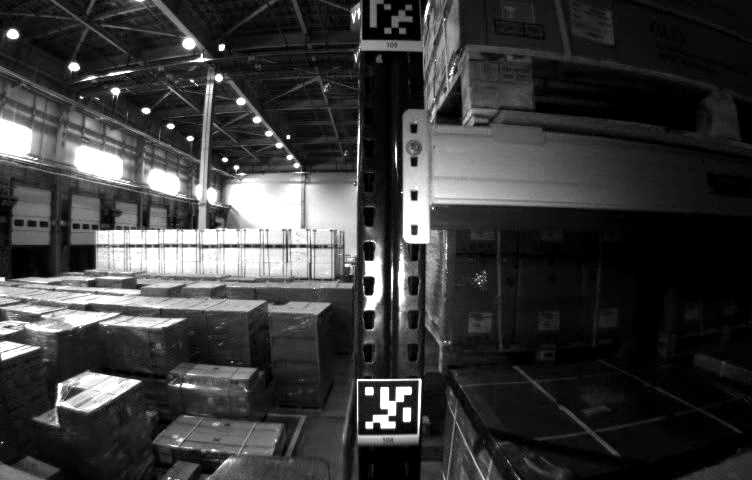True Barcode: (568, 3, 616, 43)
